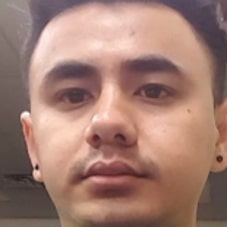awake: (36, 49, 191, 198)
